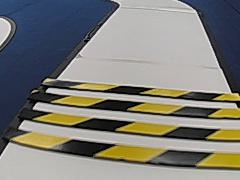bump: (5, 73, 239, 171)
